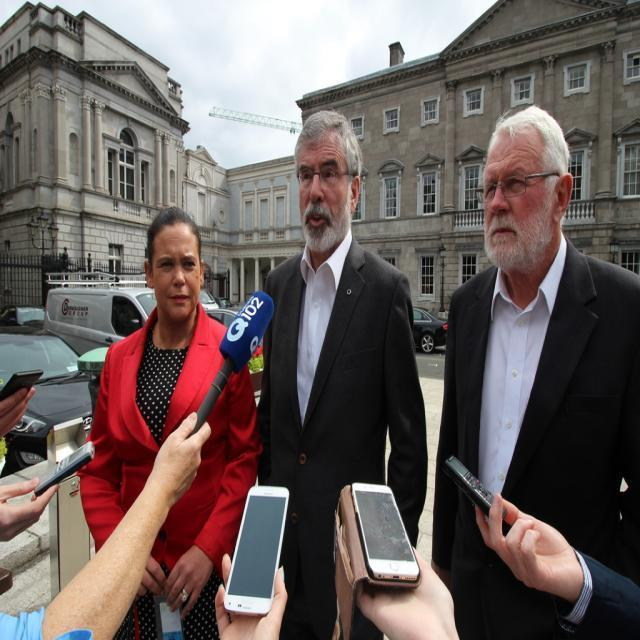Phone: (222, 484, 290, 619), (349, 480, 423, 582)
